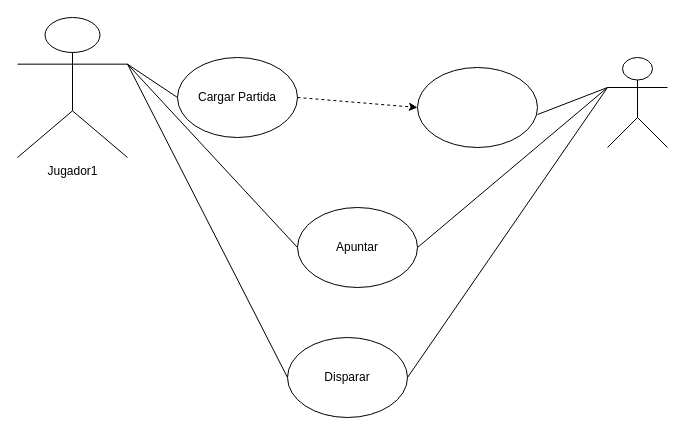
The diagram is 685 pixels wide and 435 high, and some of its shapes have lost their labels. Each missing label, with the centre of its shape:
Jugador2: (x=637, y=102)
Unrse a partida: (x=477, y=107)
